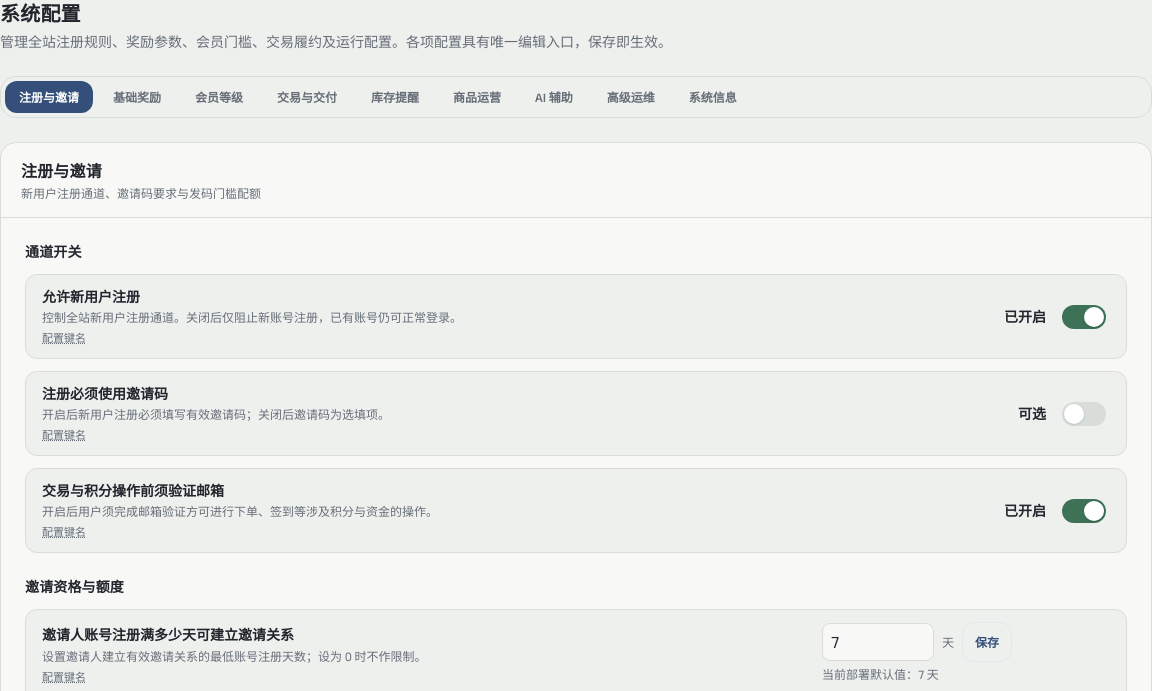
AdminConfigPanel & B2 Specifications › enforces strictly increasing order on member tier thresholds
Step 1. Click the tab "会员等级" → (219, 97), box x1=181 y1=81 x2=257 y2=113
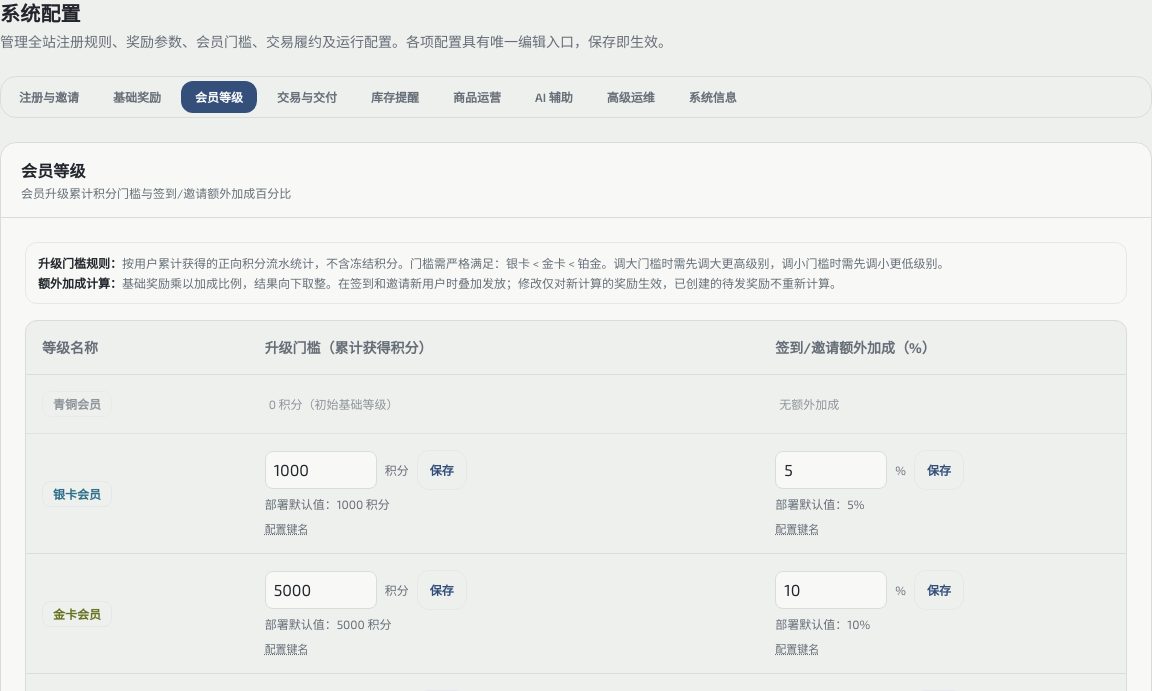
Expected: the text "青铜会员" is shown, x1=42 y1=391 x2=112 y2=417
Step 2. Replace the text in the number field with test id "admin-config-input-memberTierSilverThreshold" with "6000" → (321, 470), box x1=265 y1=451 x2=377 y2=489
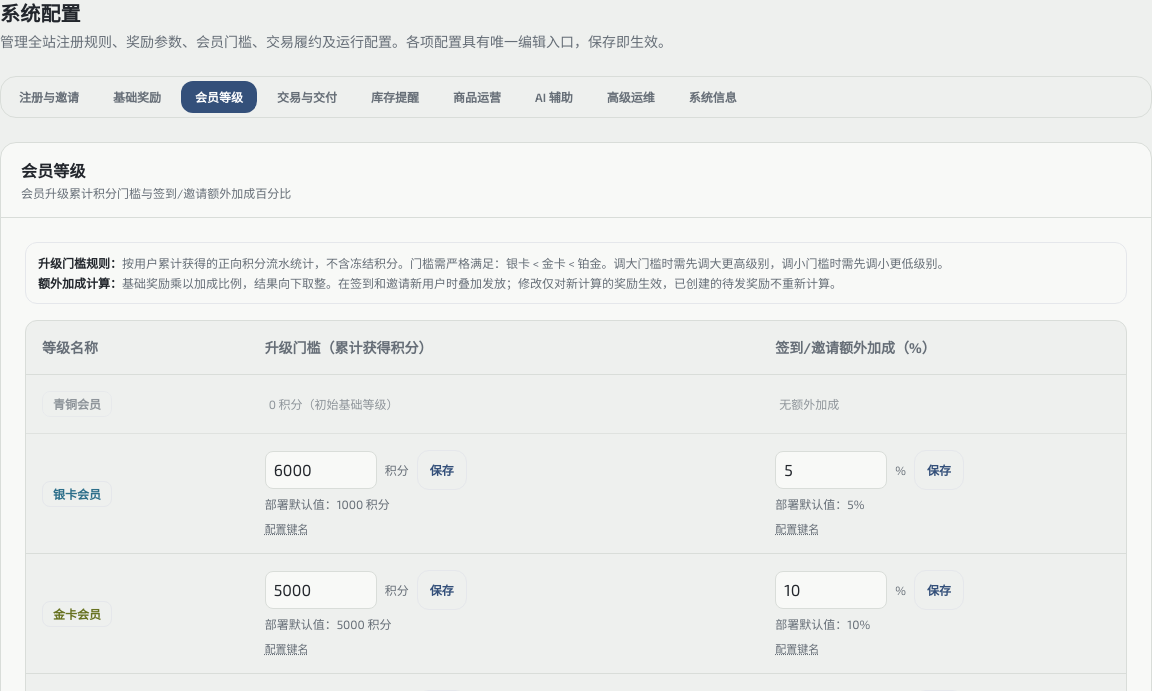
Step 3. Click the button with test id "admin-config-save-memberTierSilverThreshold" → (442, 470), box x1=417 y1=450 x2=467 y2=490
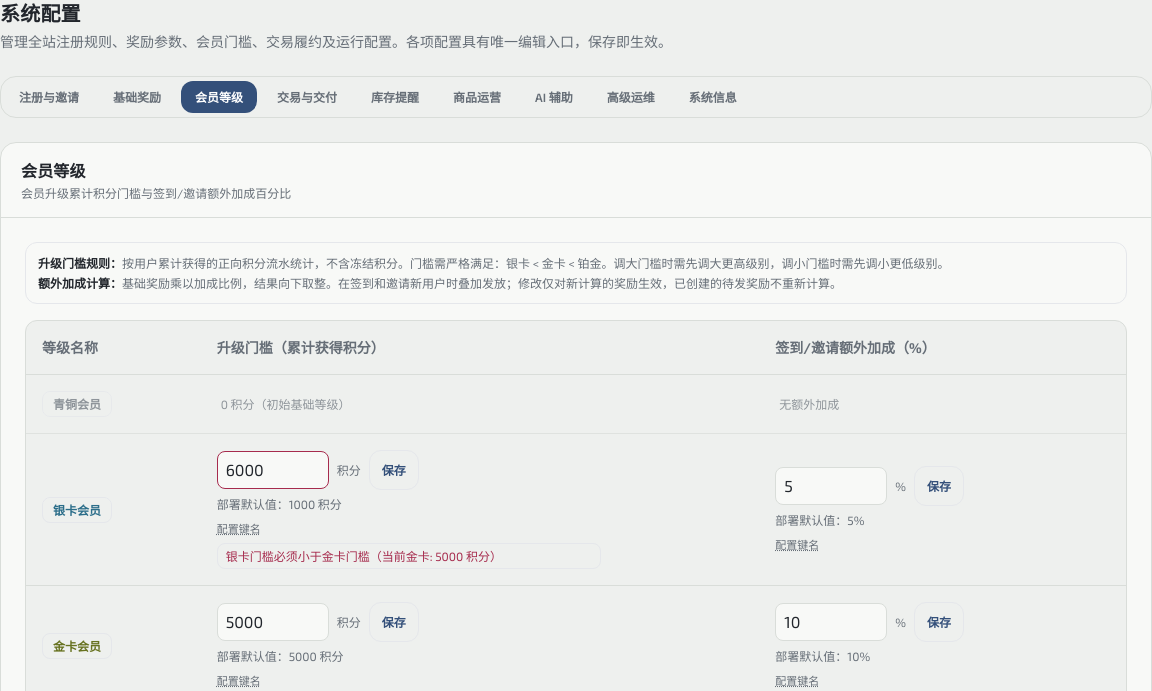
Result: the text "银卡门槛必须小于金卡门槛（当前金卡: 5000 积分）" is shown at x1=217 y1=543 x2=601 y2=569
